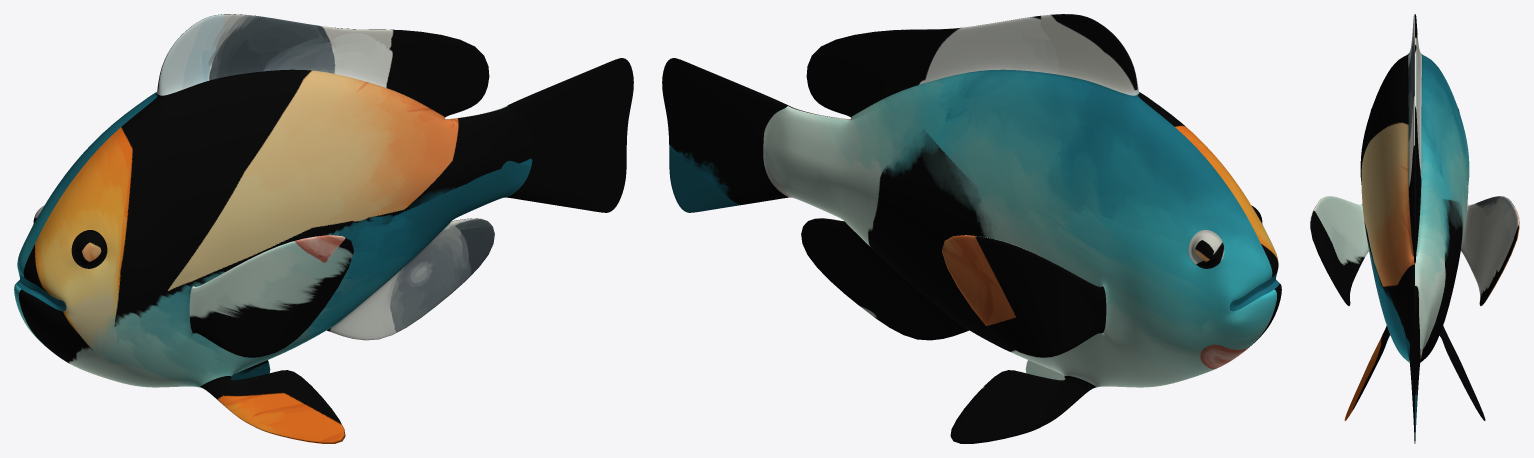
The picture shows the model from 3 angles, left to right: view 1: azimuth 30°, elevation 25°; view 2: azimuth 150°, elevation 25°; view 3: azimuth 270°, elevation 25°; orthographic projection. The views are drawn at different scales.
Parts seen in each view (by area): view 1: 12265_Fish_v1_L2; view 2: 12265_Fish_v1_L2; view 3: 12265_Fish_v1_L2.
Part boxes in pixels (left/top/right/bottom): 12265_Fish_v1_L2: left=14, top=14, right=633, bottom=443; 12265_Fish_v1_L2: left=662, top=14, right=1281, bottom=443; 12265_Fish_v1_L2: left=1310, top=14, right=1519, bottom=443.
Size of the model in its own units: 287 by 187 by 96.94.
